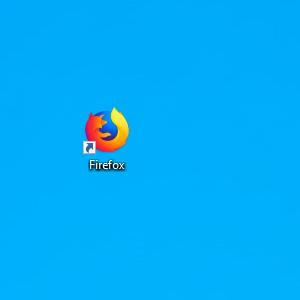firefox: (83, 106, 130, 154)
